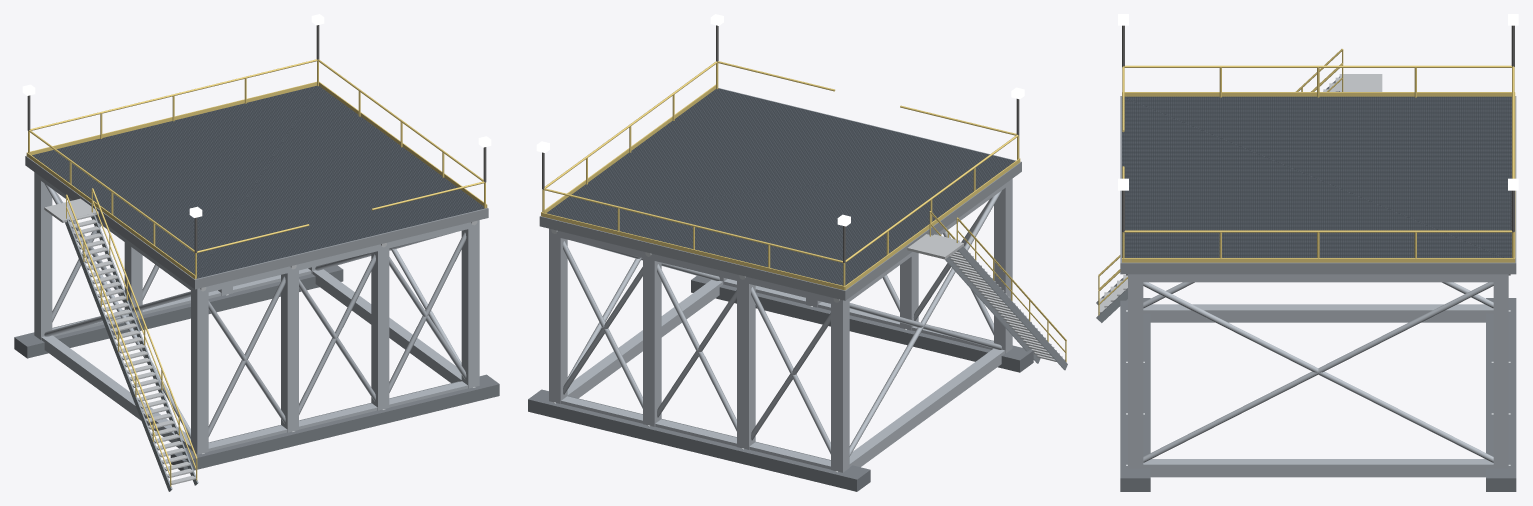
The model's file is substructure.glb.
3 renders of one model, left to right at view 1: azimuth 30°, elevation 25°; view 2: azimuth 150°, elevation 25°; view 3: azimuth 270°, elevation 25°, orthographic. The views are drawn at different scales.
Visible parts, largest first — view 1: object 61, inst (×2), object 26, object 35, object 13, object 16, object 14, object 17, object 1, object 15, object 32, object 28 (+24 smaller); view 2: object 61, object 13, object 35, inst (×2), object 26, object 28, object 1, object 2, object 3, object 4, object 32, object 5 (+20 smaller); view 3: object 61, object 32, object 28, object 35, inst (×2), object 13, object 26, object 31, object 17, object 4, object 33, object 34 (+3 smaller).
Boxes of the visible parts, box(x1,y1,x2,y2) form: object 61: box(32, 85, 485, 278); inst (×2): box(26, 81, 487, 484); object 26: box(170, 374, 499, 470); object 35: box(25, 156, 488, 289); object 13: box(14, 265, 343, 358); object 16: box(371, 242, 389, 410); object 14: box(191, 286, 208, 454); object 17: box(461, 220, 479, 388); object 1: box(34, 172, 52, 339); object 15: box(281, 264, 298, 432); object 32: box(312, 269, 478, 388); object 28: box(41, 335, 207, 453); object 61: box(546, 88, 1014, 285); object 13: box(528, 389, 870, 491); object 35: box(539, 88, 1021, 300); inst (×2): box(541, 84, 1065, 361); object 26: box(691, 276, 1033, 372); object 28: box(831, 348, 1005, 471); object 1: box(831, 297, 849, 472); object 2: box(737, 274, 755, 449); object 3: box(643, 251, 661, 426); object 4: box(549, 228, 567, 403); object 32: box(567, 280, 722, 398); object 5: box(561, 396, 849, 469); object 61: box(1122, 96, 1511, 257); object 32: box(1143, 459, 1493, 477); object 28: box(1143, 304, 1493, 322); object 35: box(1120, 96, 1516, 274); inst (×2): box(1099, 77, 1515, 313); object 13: box(1486, 298, 1516, 491); object 26: box(1120, 298, 1150, 491); object 31: box(1128, 274, 1508, 282); object 17: box(1128, 274, 1143, 468); object 4: box(1493, 274, 1508, 468); object 33: box(1143, 282, 1493, 462); object 34: box(1143, 282, 1493, 462).
Bounding box in the file's own units: 15.2 × 11.3 × 13.87.
76 materials, 1 textured.
